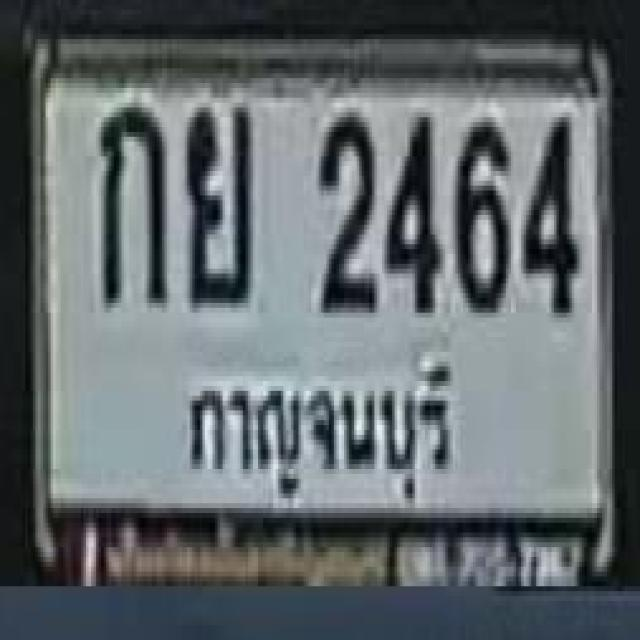license_plate: (23, 28, 614, 590)
